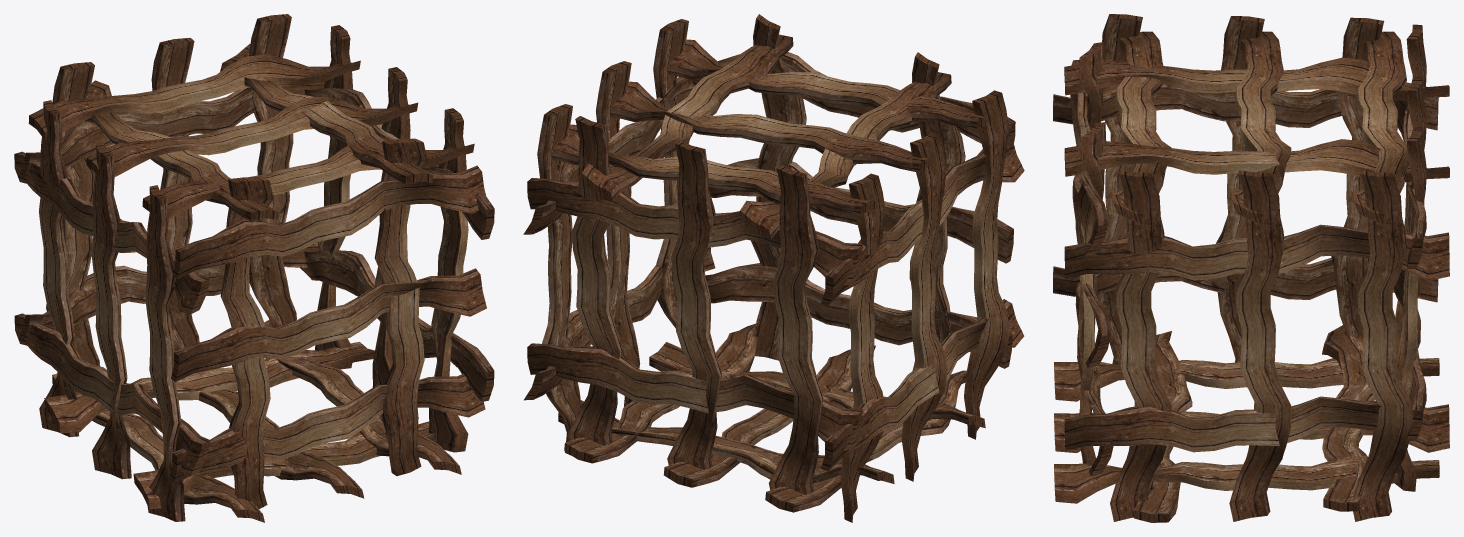
Rendered from cage01.FBX.
3 renders of one model, left to right at view 1: azimuth 30°, elevation 25°; view 2: azimuth 150°, elevation 25°; view 3: azimuth 270°, elevation 25°, orthographic. The views are drawn at different scales.
Parts seen in each view (by area): view 1: Box011, Box012, Box015, Box013, Box014, Box027, Box026, Box006, Box007, Box003, Box030, Box028 (+18 smaller); view 2: Box001, Box002, Box005, Box003, Box026, Box004, Box027, Box007, Box028, Box008, Box010, Box021 (+18 smaller); view 3: Box021, Box022, Box025, Box024, Box023, Box010, Box018, Box009, Box029, Box006, Box007, Box016 (+18 smaller).
Boxes of the visible parts, x1=… form: Box011: x1=172, y1=165, x2=485, y2=279; Box012: x1=171, y1=268, x2=486, y2=382; Box015: x1=374, y1=138, x2=427, y2=475; Box013: x1=169, y1=373, x2=485, y2=482; Box014: x1=220, y1=177, x2=273, y2=509; Box027: x1=91, y1=142, x2=131, y2=479; Box026: x1=145, y1=185, x2=185, y2=521; Box006: x1=28, y1=54, x2=360, y2=139; Box007: x1=86, y1=96, x2=418, y2=176; Box003: x1=249, y1=14, x2=296, y2=327; Box030: x1=14, y1=313, x2=210, y2=476; Box028: x1=39, y1=100, x2=78, y2=437; Box001: x1=768, y1=165, x2=823, y2=494; Box002: x1=667, y1=140, x2=721, y2=469; Box005: x1=527, y1=343, x2=862, y2=450; Box003: x1=567, y1=116, x2=622, y2=444; Box026: x1=964, y1=90, x2=1009, y2=439; Box004: x1=527, y1=178, x2=862, y2=284; Box027: x1=901, y1=132, x2=947, y2=481; Box007: x1=610, y1=81, x2=932, y2=172; Box028: x1=840, y1=173, x2=885, y2=522; Box008: x1=667, y1=39, x2=984, y2=130; Box010: x1=582, y1=34, x2=793, y2=201; Box021: x1=537, y1=104, x2=581, y2=455; Box021: x1=1353, y1=170, x2=1412, y2=521; Box022: x1=1229, y1=170, x2=1291, y2=521; Box025: x1=1064, y1=396, x2=1449, y2=452; Box024: x1=1064, y1=224, x2=1449, y2=280; Box023: x1=1110, y1=170, x2=1171, y2=521; Box010: x1=1064, y1=139, x2=1449, y2=182; Box018: x1=1054, y1=456, x2=1439, y2=503; Box009: x1=1064, y1=57, x2=1449, y2=100; Box029: x1=1053, y1=84, x2=1438, y2=130; Box006: x1=1351, y1=31, x2=1409, y2=224; Box007: x1=1229, y1=31, x2=1291, y2=224; Box016: x1=1054, y1=358, x2=1439, y2=401.
Size of the model in its own units: 150 by 152 by 151.
1 material, 1 textured.
